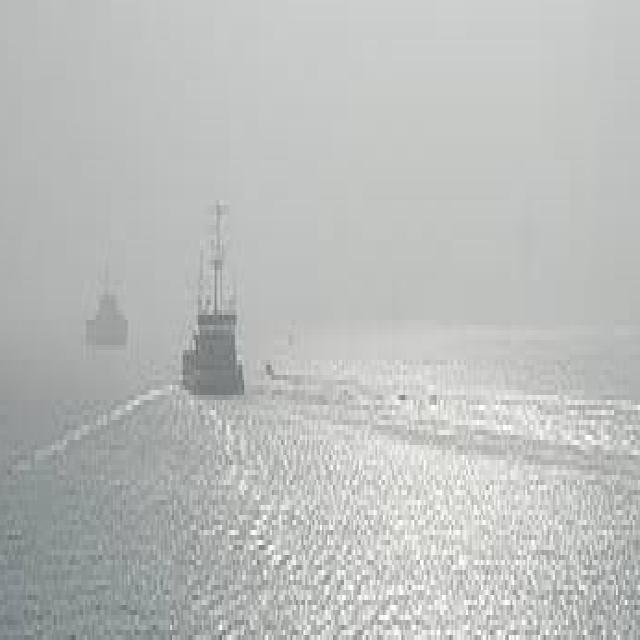fishing boat: (183, 202, 260, 422), (77, 233, 135, 364)
